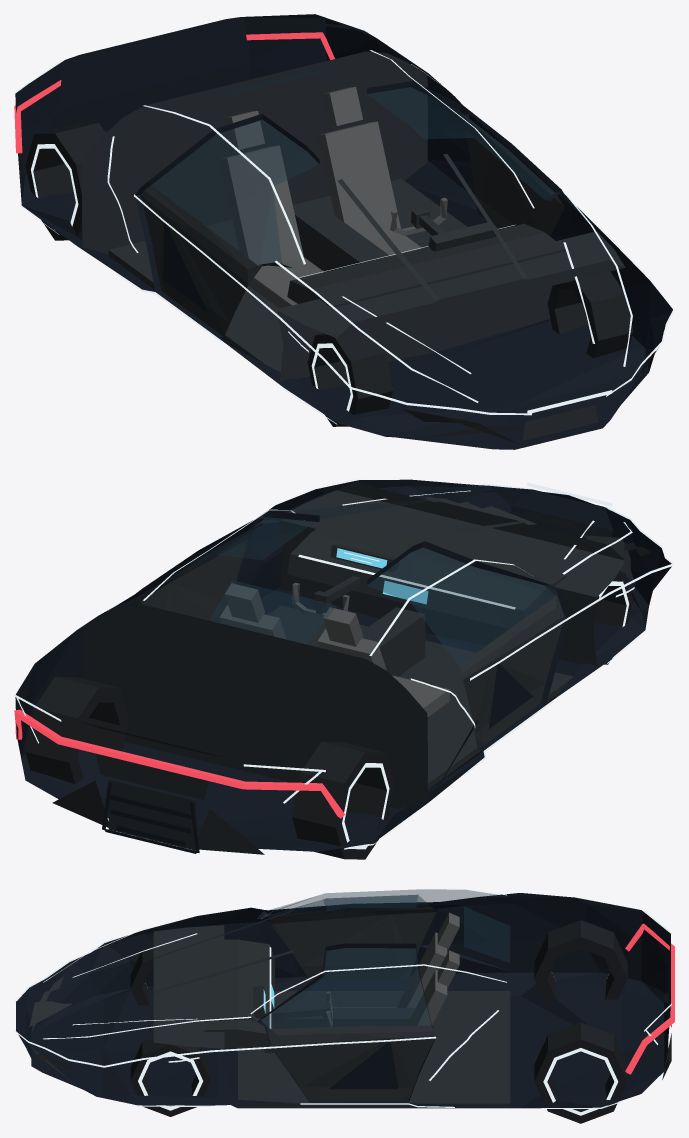
The model's file is skycar.glb.
3 renders of one model, top to bottom at view 1: azimuth 30°, elevation 25°; view 2: azimuth 150°, elevation 25°; view 3: azimuth 270°, elevation 25°, orthographic. The views are drawn at different scales.
Parts seen in each view (by area): view 1: Body, Door_R, Door_L, Wheel_RF, Wheel_LF, Wheel_RB, Yoke; view 2: Body, Door_R, Wheel_RB, Door_L, Wheel_LB, Wheel_RF, Yoke; view 3: Body, Door_L, Door_R, Wheel_LB, Wheel_RB, Wheel_LF, Wheel_RF, Yoke.
Boxes of the visible parts, bbox=[...] form: Body: bbox=[14, 14, 674, 449]; Door_R: bbox=[134, 114, 319, 337]; Door_L: bbox=[367, 79, 570, 239]; Wheel_RF: bbox=[307, 330, 393, 426]; Wheel_LF: bbox=[547, 271, 633, 358]; Wheel_RB: bbox=[25, 122, 105, 240]; Yoke: bbox=[390, 197, 447, 235]; Body: bbox=[14, 478, 674, 854]; Door_R: bbox=[367, 541, 571, 750]; Wheel_RB: bbox=[292, 741, 394, 859]; Door_L: bbox=[135, 509, 319, 623]; Wheel_LB: bbox=[25, 676, 128, 784]; Wheel_RF: bbox=[594, 571, 633, 664]; Yoke: bbox=[292, 576, 360, 619]; Body: bbox=[14, 888, 674, 1108]; Door_L: bbox=[257, 943, 436, 1102]; Door_R: bbox=[257, 888, 436, 979]; Wheel_LB: bbox=[534, 1022, 627, 1123]; Wheel_RB: bbox=[534, 920, 627, 1007]; Wheel_LF: bbox=[130, 1037, 210, 1116]; Wheel_RF: bbox=[130, 945, 153, 1005]; Yoke: bbox=[272, 991, 332, 1026].
Bounding box in the file's own units: 2.43 × 1.17 × 4.96.
